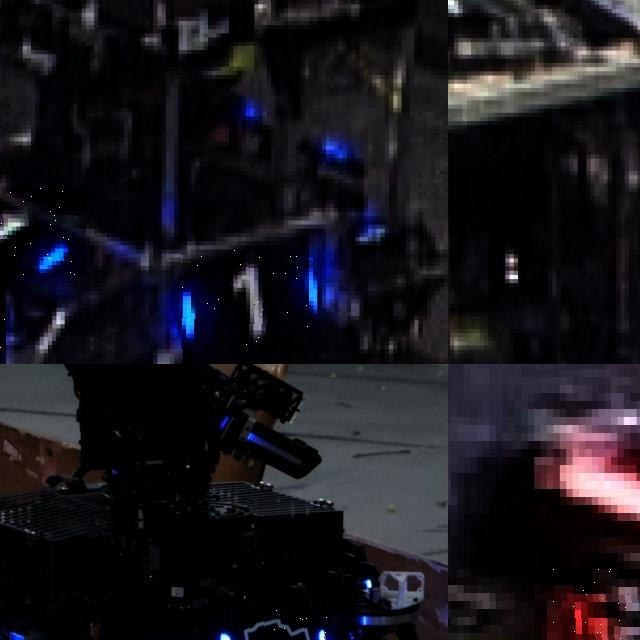B1: (174, 250, 322, 349), (0, 187, 85, 274)
Bs: (216, 610, 331, 640)
R3: (546, 569, 640, 640)
